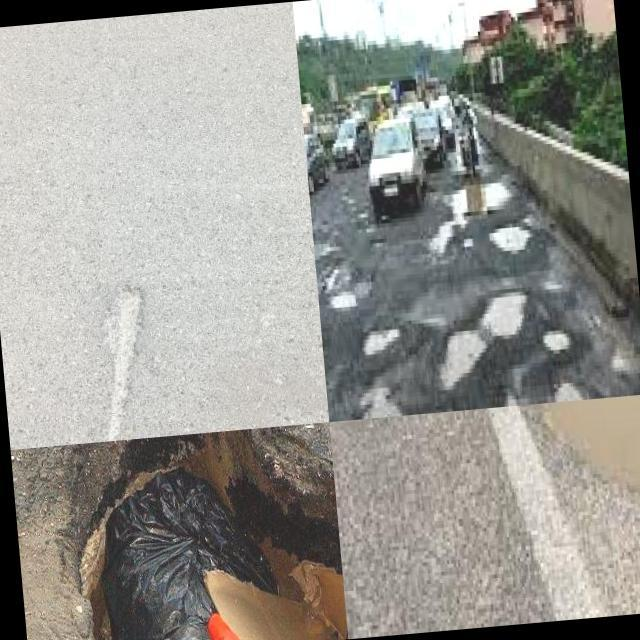Pothole: (63, 426, 348, 640), (443, 295, 525, 386), (427, 172, 511, 257), (107, 288, 145, 441), (321, 260, 374, 311), (487, 214, 533, 254), (358, 391, 400, 419), (364, 329, 400, 358), (543, 330, 574, 354), (555, 382, 588, 402)
